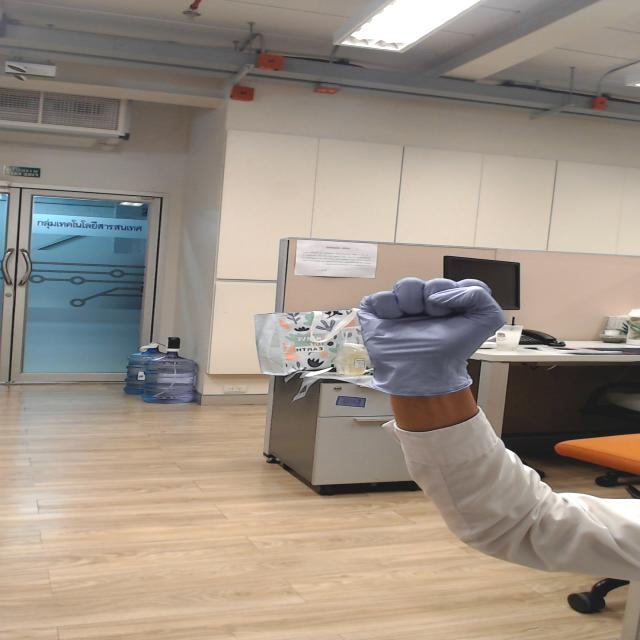glove: (334, 262, 514, 390)
